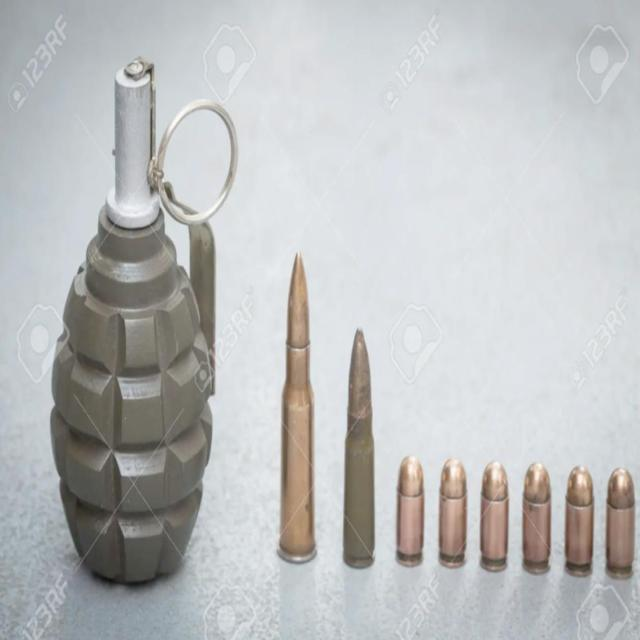grenade: (52, 60, 238, 586)
